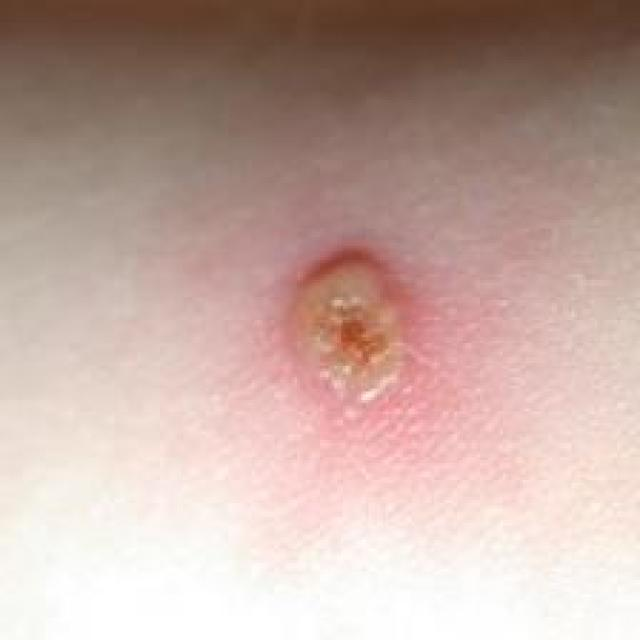others: (44, 102, 621, 631)
